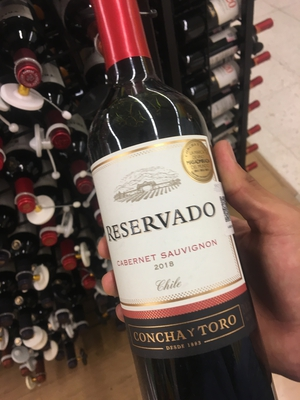reservado cabernet sauvignon: (72, 14, 265, 400)
